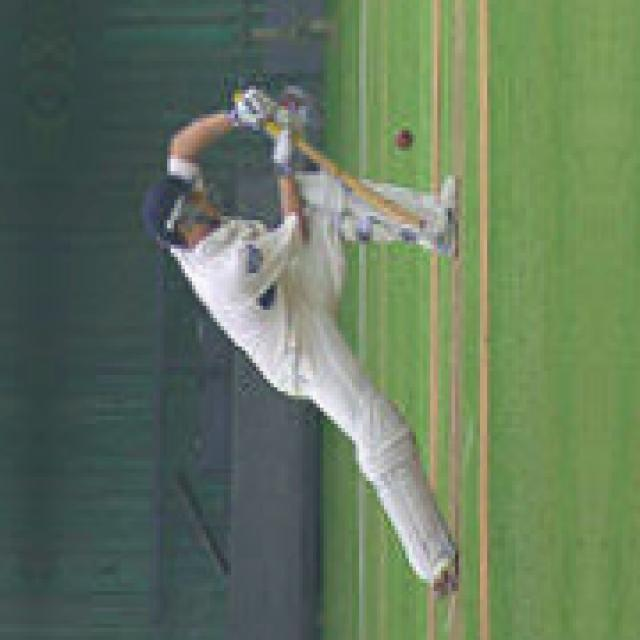toe: (387, 200, 434, 238)
